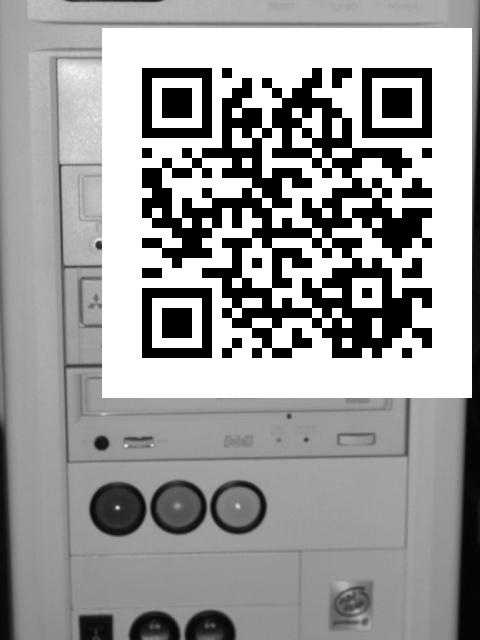qr_code: (100, 26, 471, 397)
